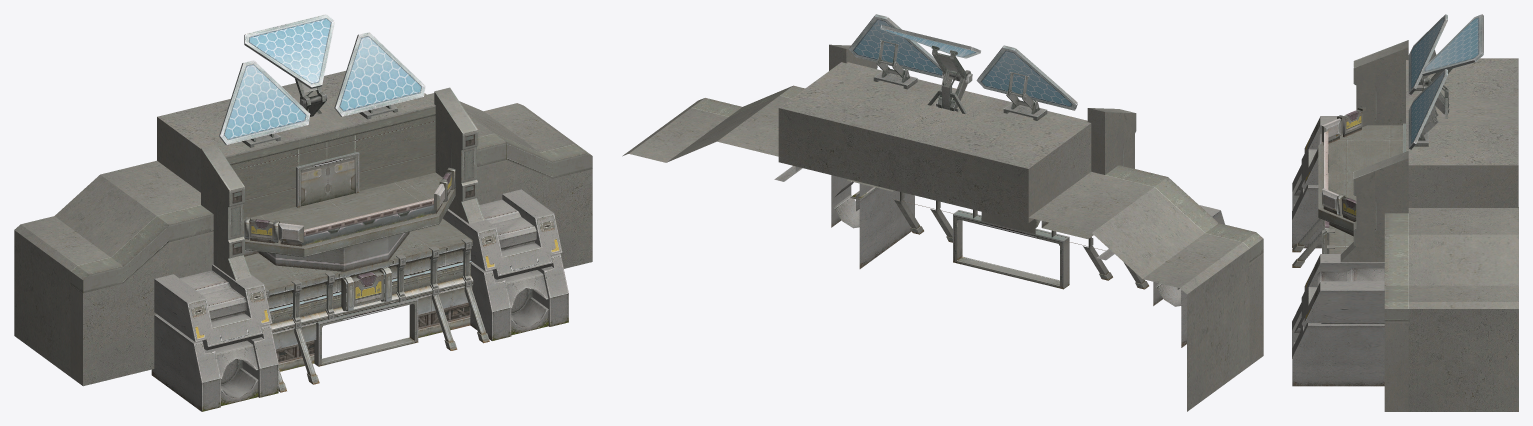
Rendered from Building_Mainexit01_lod1.glb.
3 renders of one model, left to right at view 1: azimuth 30°, elevation 25°; view 2: azimuth 150°, elevation 25°; view 3: azimuth 270°, elevation 25°, orthographic. The views are drawn at different scales.
Visible parts, largest first — view 1: xiutz_mainexit_01_lod1; view 2: xiutz_mainexit_01_lod1; view 3: xiutz_mainexit_01_lod1.
Boxes of the visible parts, x1,y1,x2,y2 form: xiutz_mainexit_01_lod1: (14, 14, 592, 411); xiutz_mainexit_01_lod1: (622, 14, 1263, 411); xiutz_mainexit_01_lod1: (1292, 14, 1518, 411).
Size of the model in its own units: 62.75 by 32.01 by 24.83.
1 material, 1 textured.
